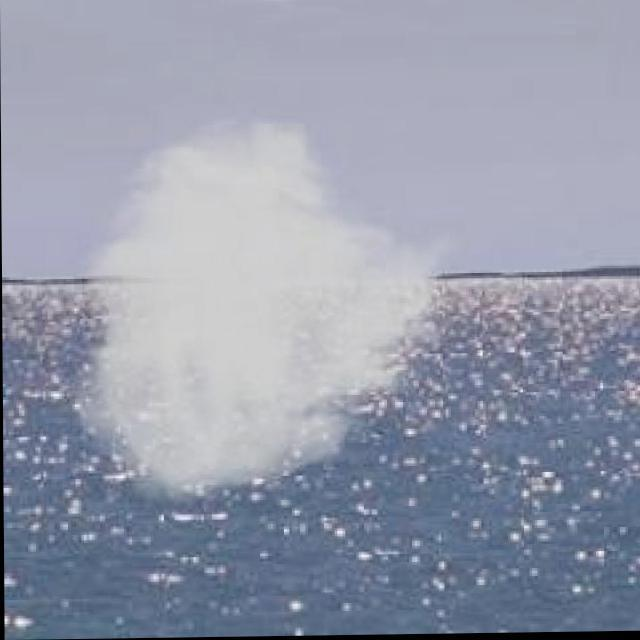Smoke: (86, 108, 438, 506)
